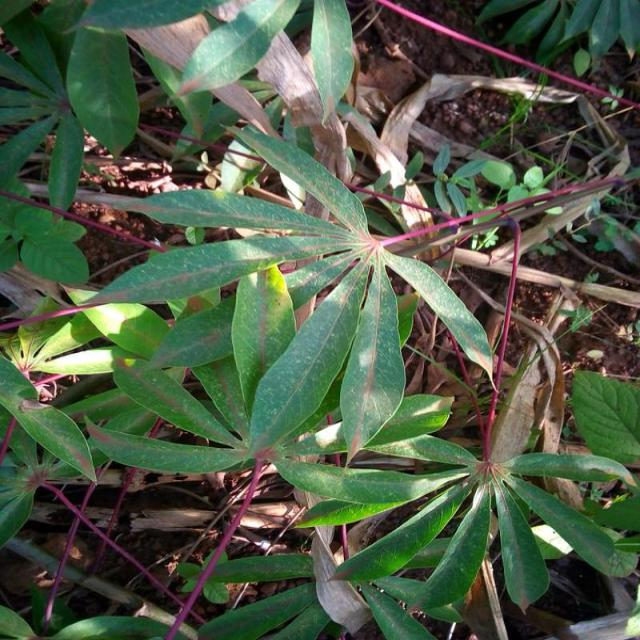cassava leaf: (70, 121, 498, 464)
